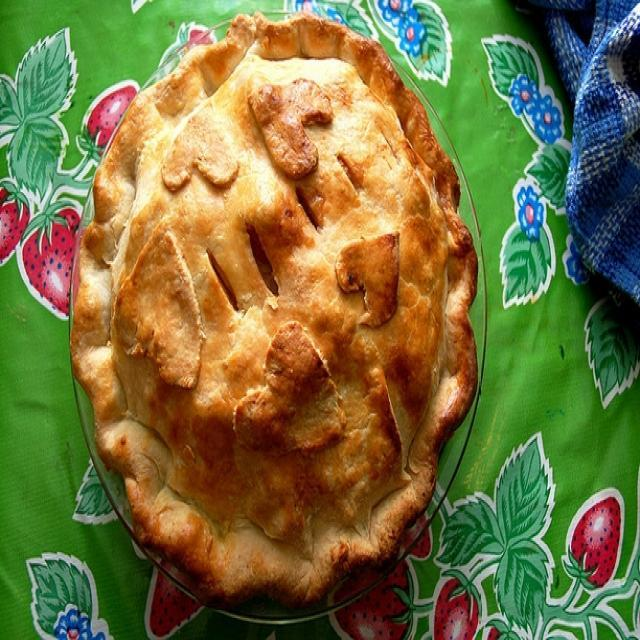Apple: (73, 19, 475, 601)
